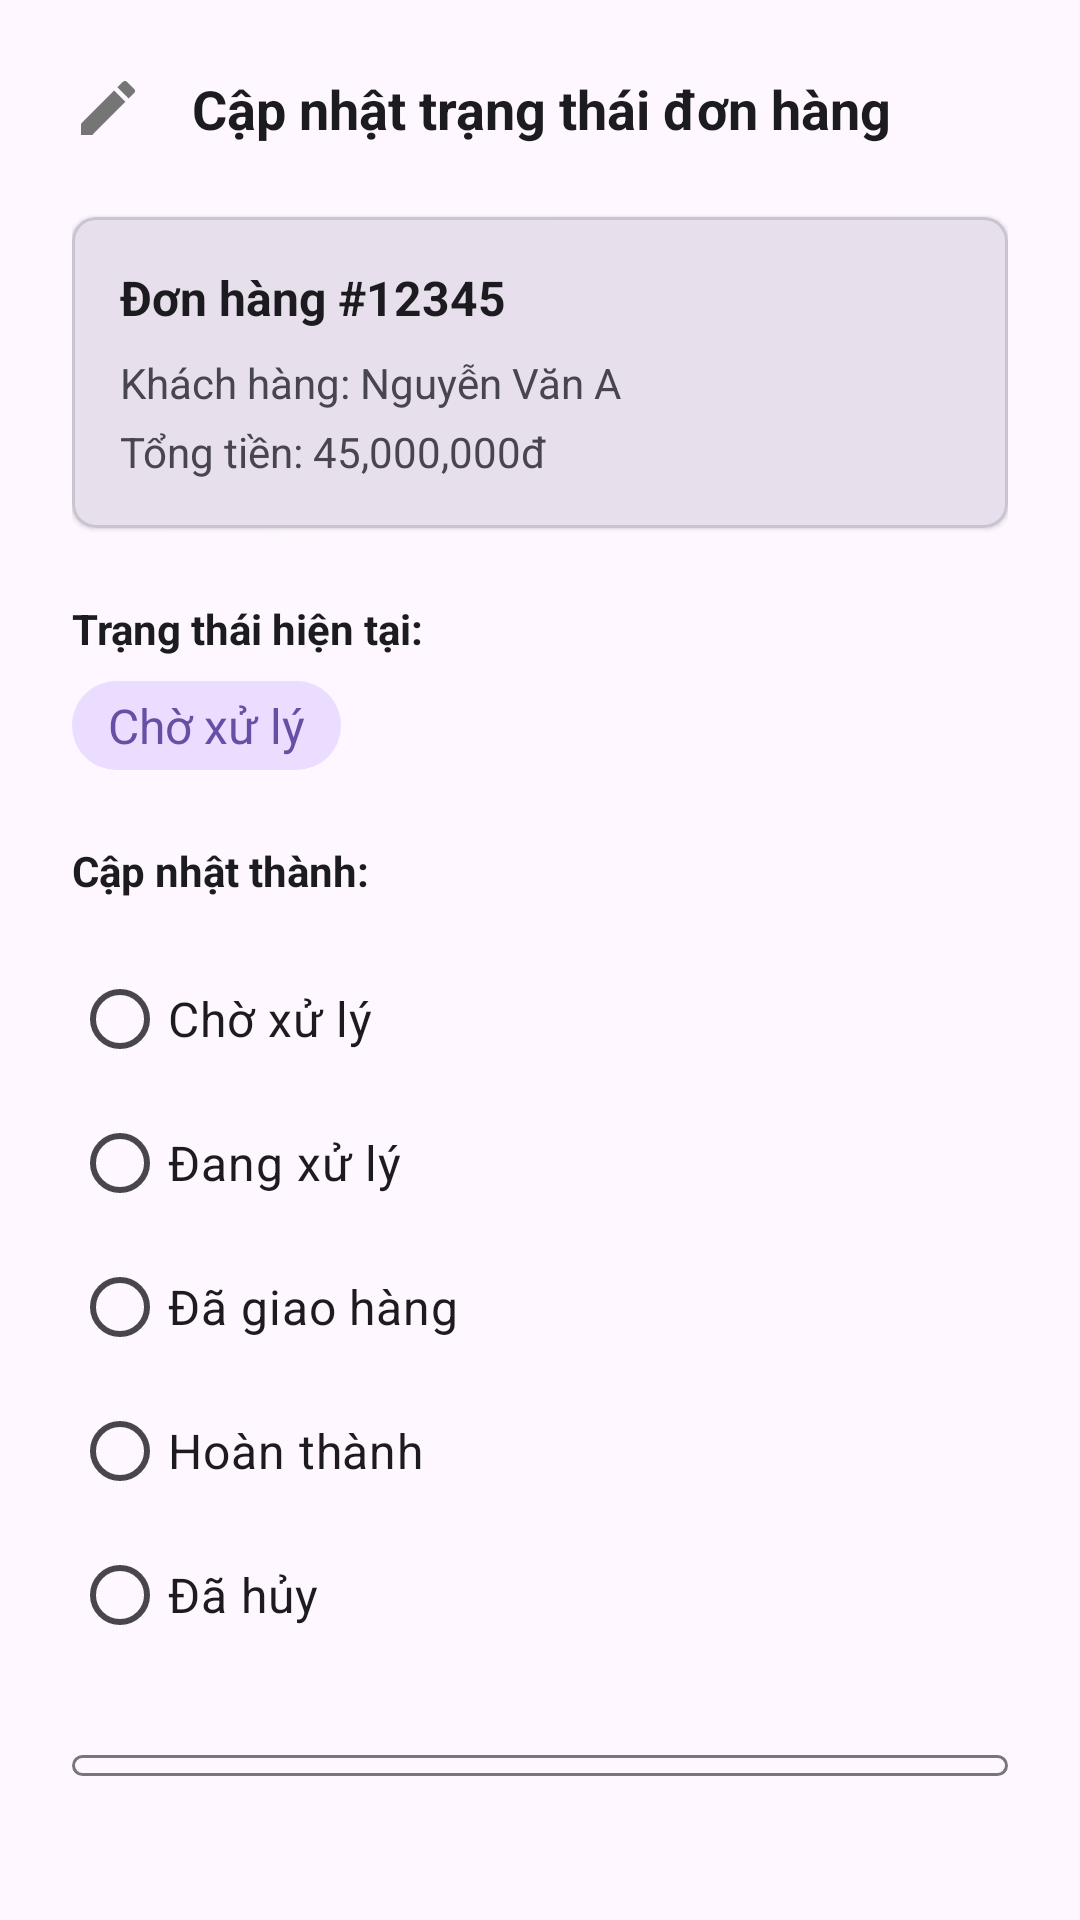

Locate icon controls on the screen. Image size 1080×1920, boxes as (x1, y1, x2, y2).
edit: (81, 81, 135, 135)
